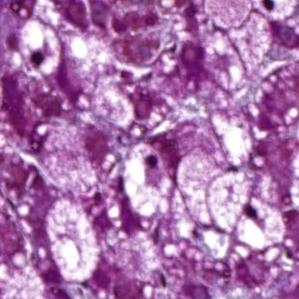ballooning: (119, 140, 171, 220), (16, 18, 64, 81)
